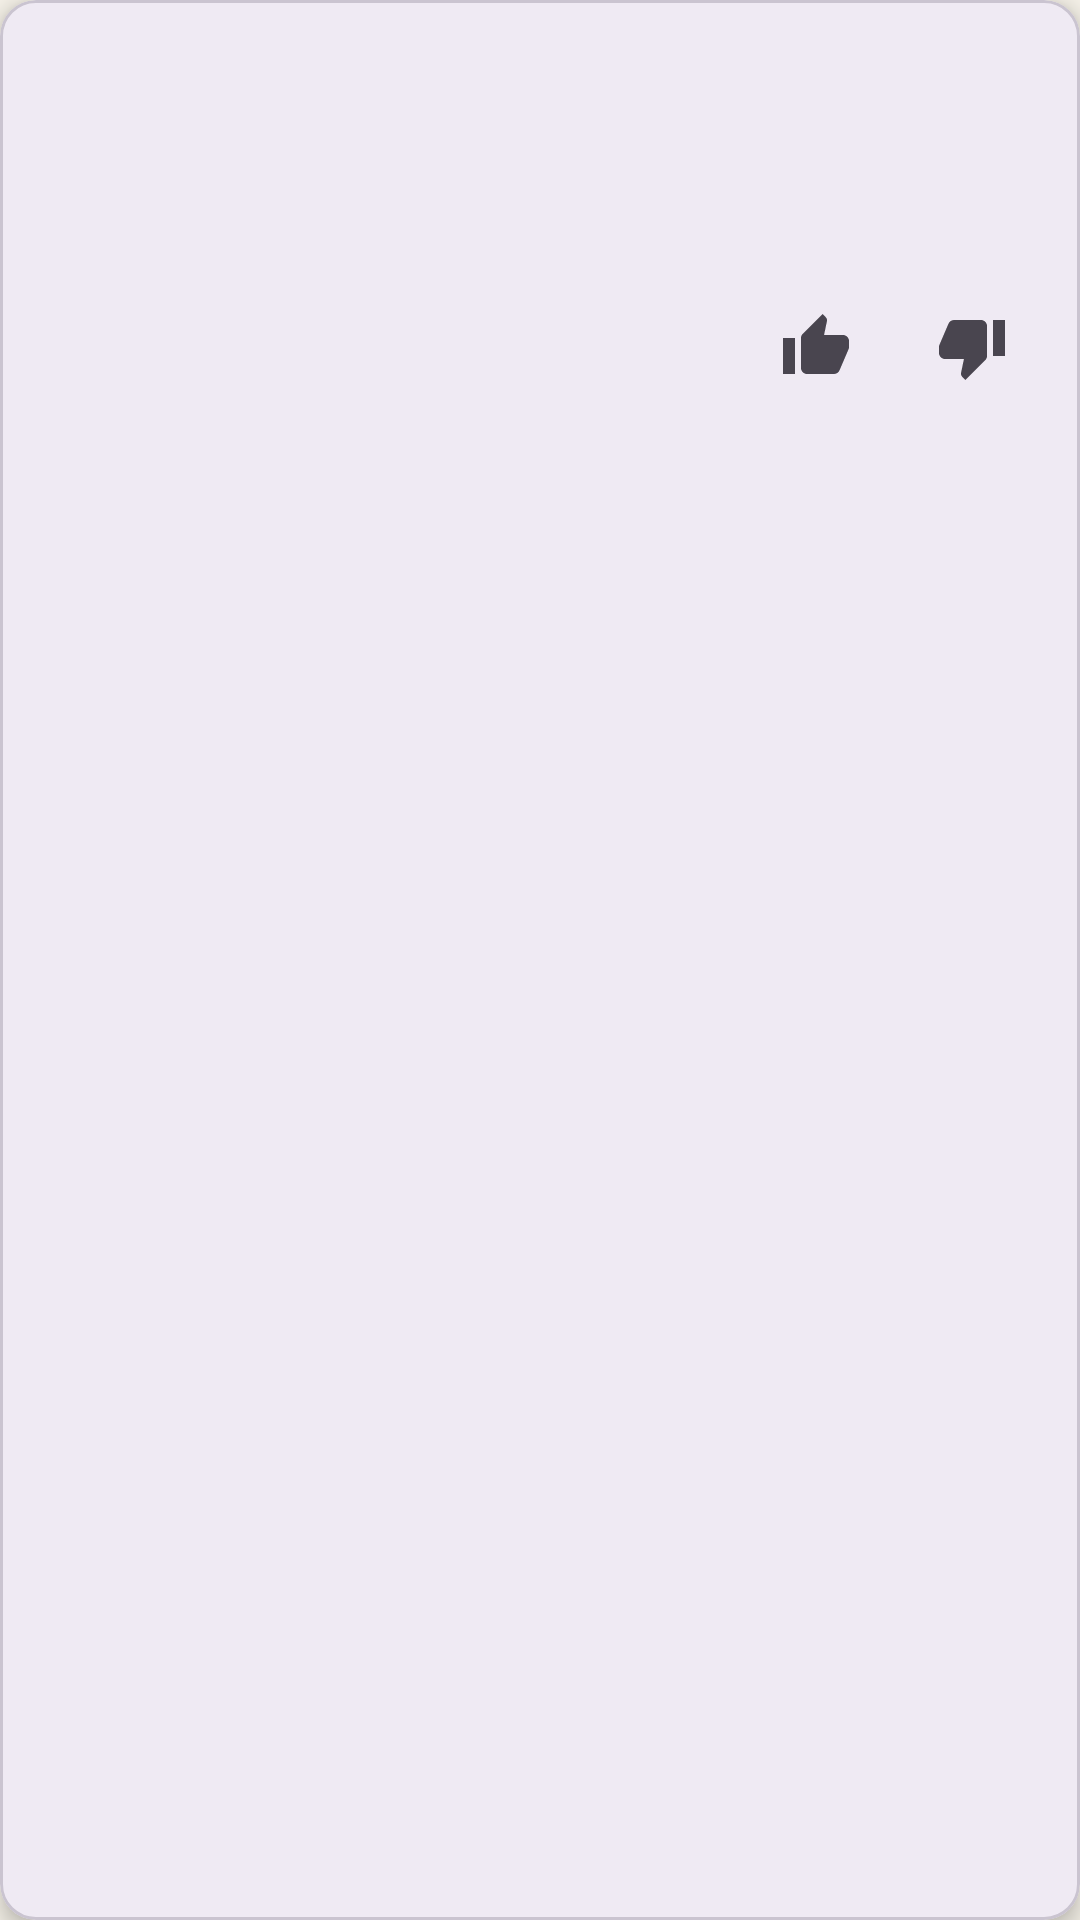

Icons on this 1080 x 1920 Android screen, each with its box as bbox=[x1, y1, x2, y2]:
dislike: bbox=[939, 320, 1005, 380]
like: bbox=[783, 314, 849, 374]
